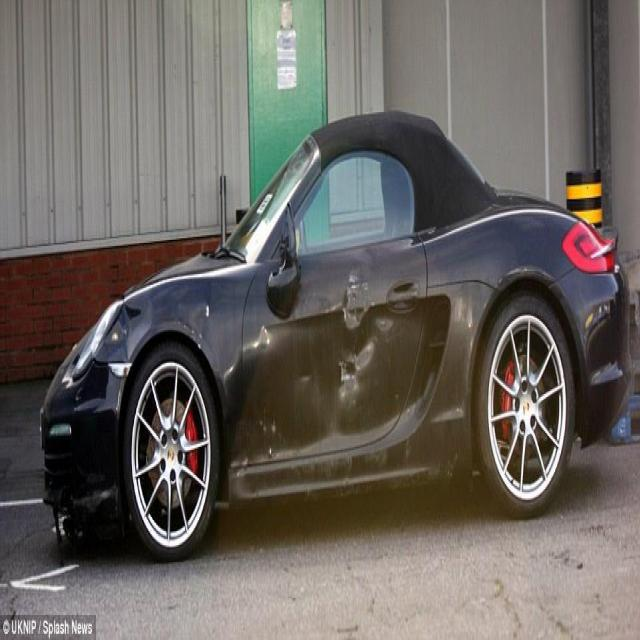dent: (320, 253, 397, 434)
